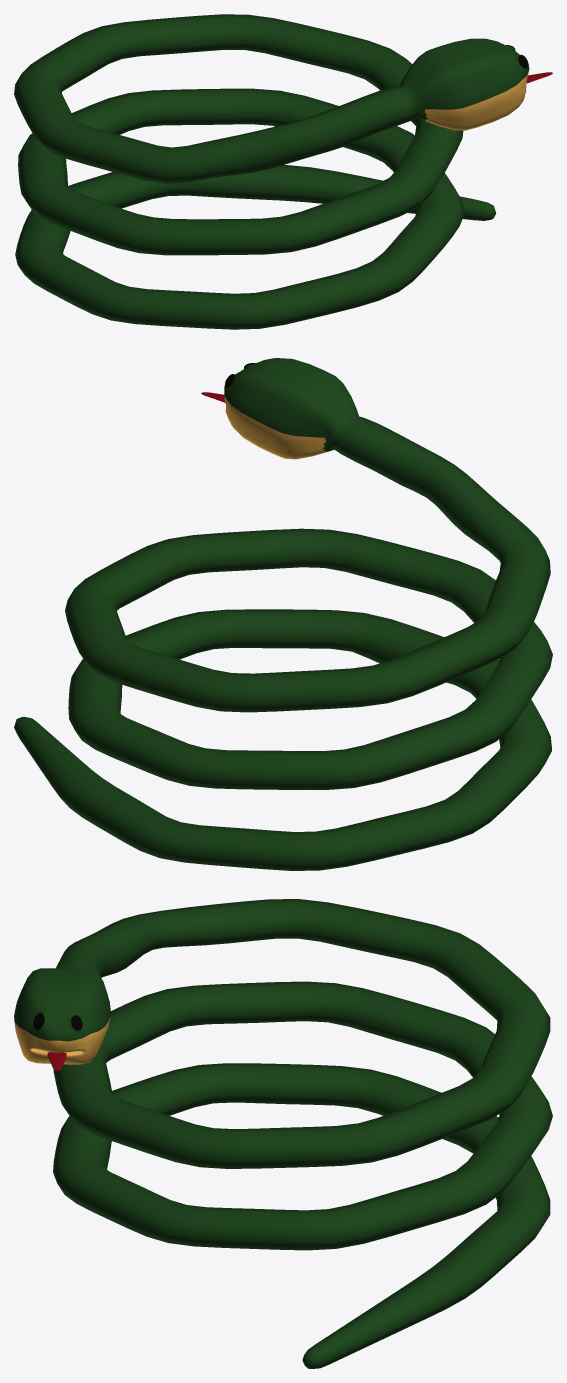
File: Snek_Folded.fbx
3 renders of one model, top to bottom at view 1: azimuth 30°, elevation 25°; view 2: azimuth 150°, elevation 25°; view 3: azimuth 270°, elevation 25°, orthographic. The views are drawn at different scales.
Parts seen in each view (by area): view 1: SnekFolded; view 2: SnekFolded; view 3: SnekFolded.
Boxes of the visible parts, x1=… form: SnekFolded: x1=14, y1=14, x2=552, y2=329; SnekFolded: x1=14, y1=358, x2=552, y2=870; SnekFolded: x1=14, y1=899, x2=552, y2=1368.
Size of the model in its own units: 32.87 by 19.48 by 29.93.
